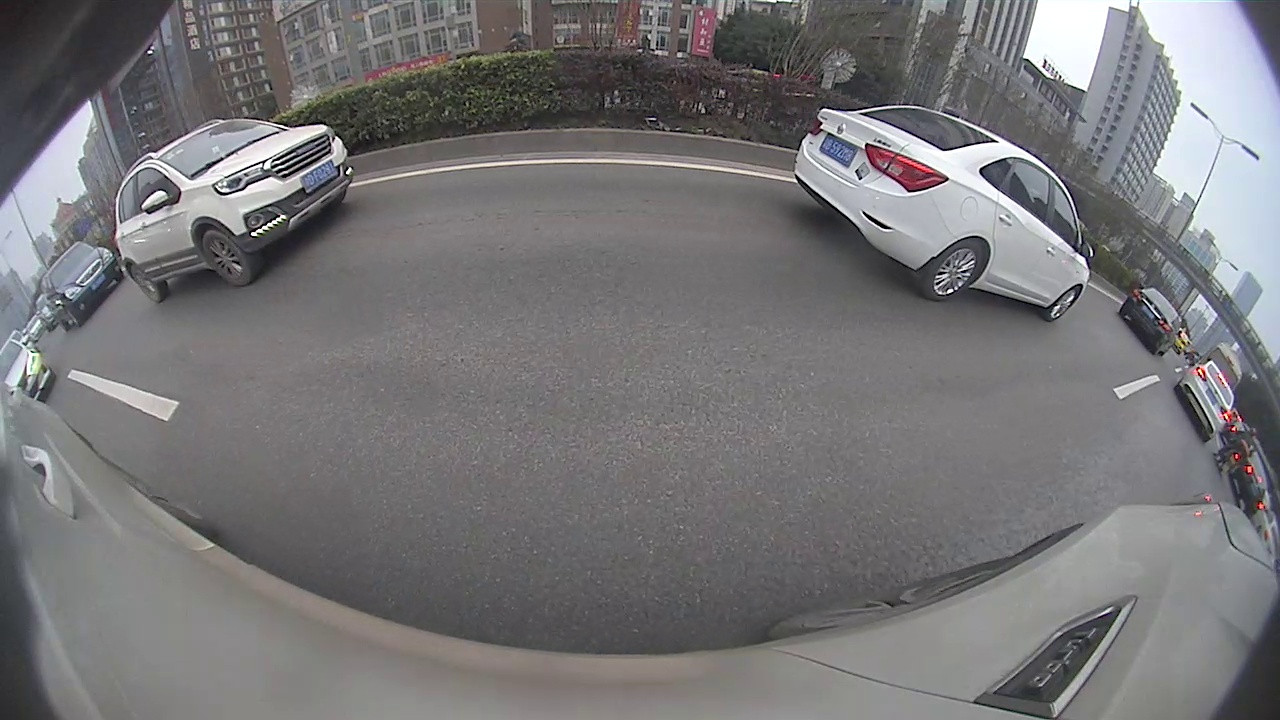car: (791, 103, 1096, 325), (113, 118, 356, 302), (42, 242, 126, 333), (1175, 359, 1237, 443), (1119, 287, 1184, 357)
front: (201, 228, 253, 287), (1045, 287, 1083, 321)
rear: (923, 241, 984, 302), (128, 262, 164, 301)
